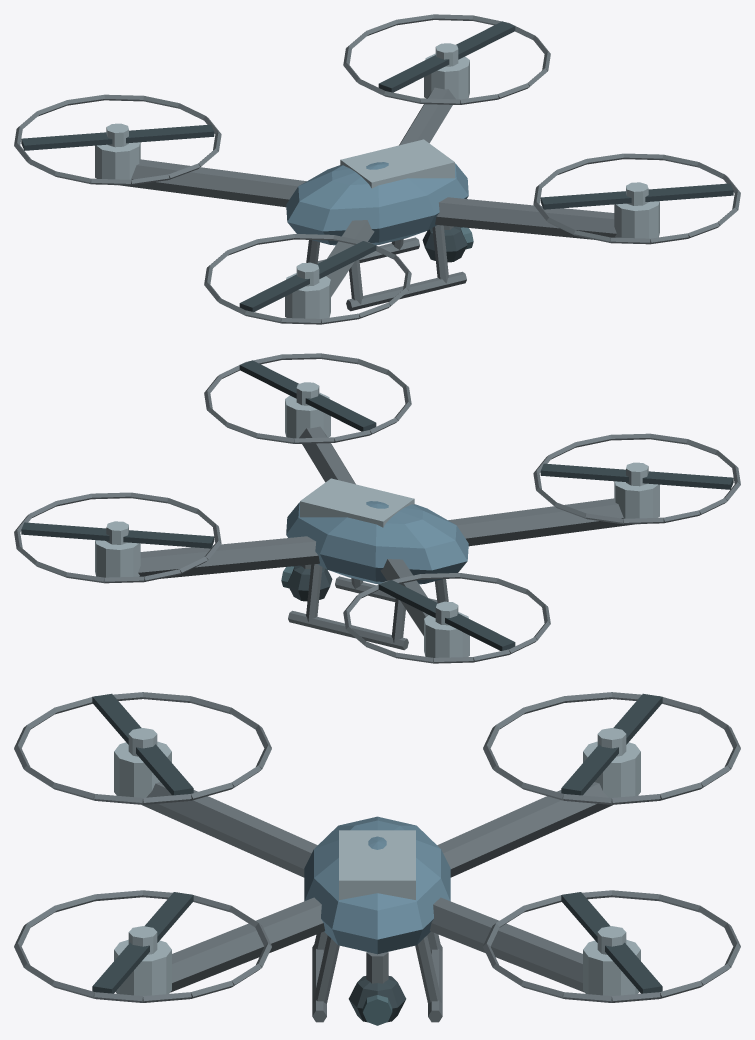
File: uav.glb
3 renders of one model, top to bottom at view 1: azimuth 30°, elevation 25°; view 2: azimuth 150°, elevation 25°; view 3: azimuth 270°, elevation 25°, orthographic. The views are drawn at different scales.
Parts seen in each view (by area): view 1: uav; view 2: uav; view 3: uav.
Boxes of the visible parts, left/top/right/bottom form: uav: left=14, top=14, right=740, bottom=324; uav: left=14, top=353, right=740, bottom=663; uav: left=14, top=692, right=740, bottom=1025.
Bounding box in the file's own units: 2.26 × 0.5199 × 2.26.
